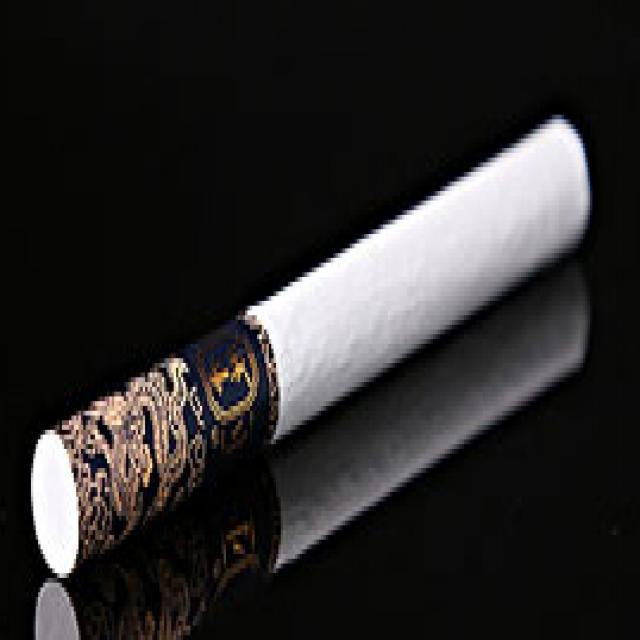smoking: (29, 112, 588, 580)
